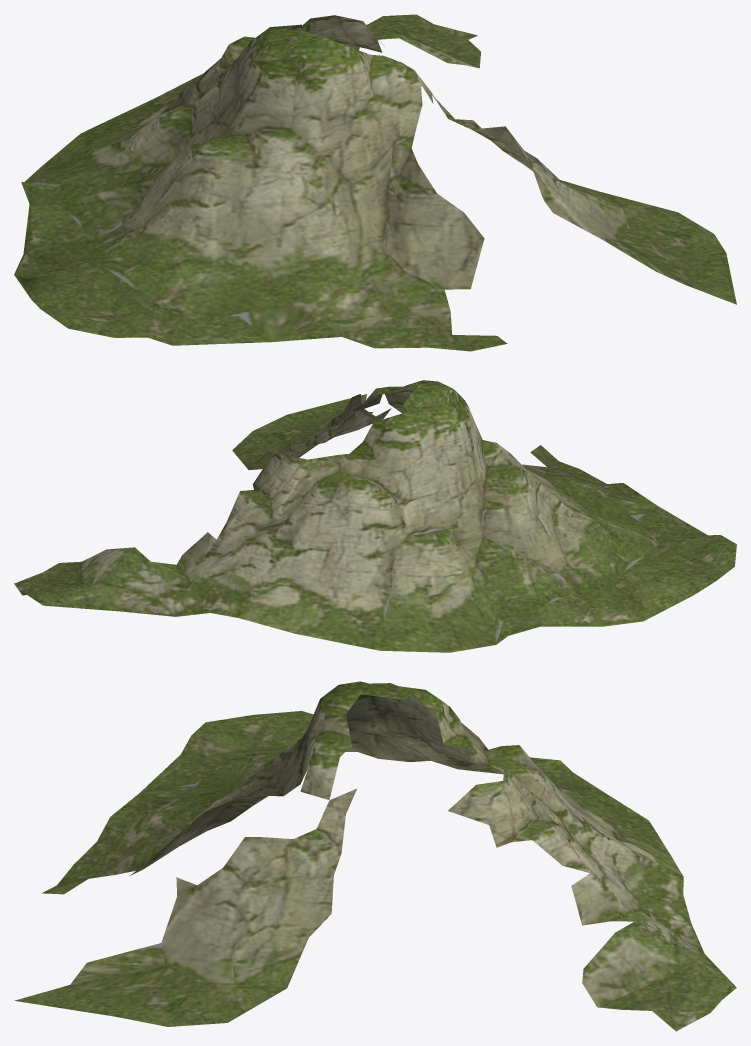
The model's file is S_Rock_Green078_H3.FBX.
The picture shows the model from 3 angles, top to bottom: view 1: azimuth 30°, elevation 25°; view 2: azimuth 150°, elevation 25°; view 3: azimuth 270°, elevation 25°; orthographic projection. The views are drawn at different scales.
Parts seen in each view (by area): view 1: S_Rock_Green078_H3; view 2: S_Rock_Green078_H3; view 3: S_Rock_Green078_H3.
Boxes of the visible parts, x1,y1,x2,y2 form: S_Rock_Green078_H3: [14, 14, 736, 351]; S_Rock_Green078_H3: [14, 380, 736, 652]; S_Rock_Green078_H3: [14, 681, 736, 1031].
Size of the model in its own units: 17470 by 5276 by 17622.
Materials: 1 (1 with a texture image).
